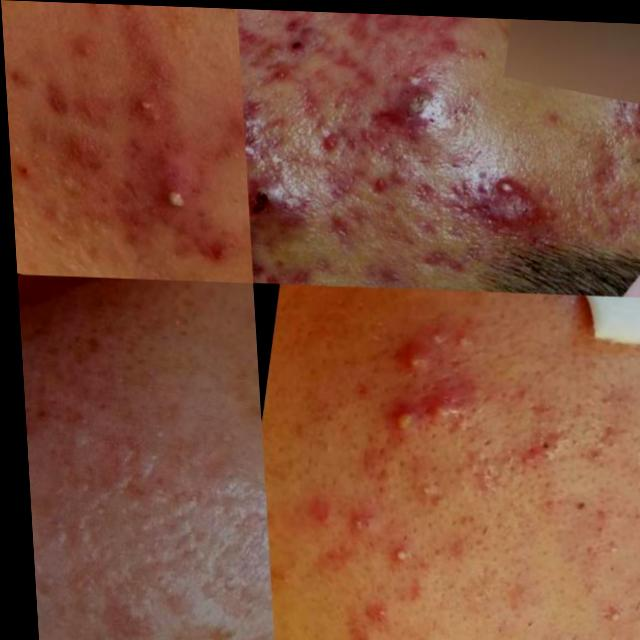8: (52, 119, 123, 183)
9: (358, 400, 415, 446), (142, 174, 196, 222), (476, 166, 532, 206), (582, 591, 626, 638), (374, 535, 414, 572), (121, 86, 156, 121), (396, 476, 433, 507), (384, 341, 425, 368), (414, 320, 450, 350), (441, 321, 473, 351)
blackheads: (348, 67, 451, 151), (408, 183, 558, 238), (244, 171, 310, 247), (406, 231, 476, 288), (321, 9, 389, 53), (240, 83, 273, 172), (261, 51, 297, 90)
dark spot: (501, 423, 561, 480), (451, 444, 491, 501), (208, 177, 246, 218), (297, 421, 334, 458), (32, 225, 72, 258), (607, 144, 640, 177)
pustules: (411, 381, 464, 435)
